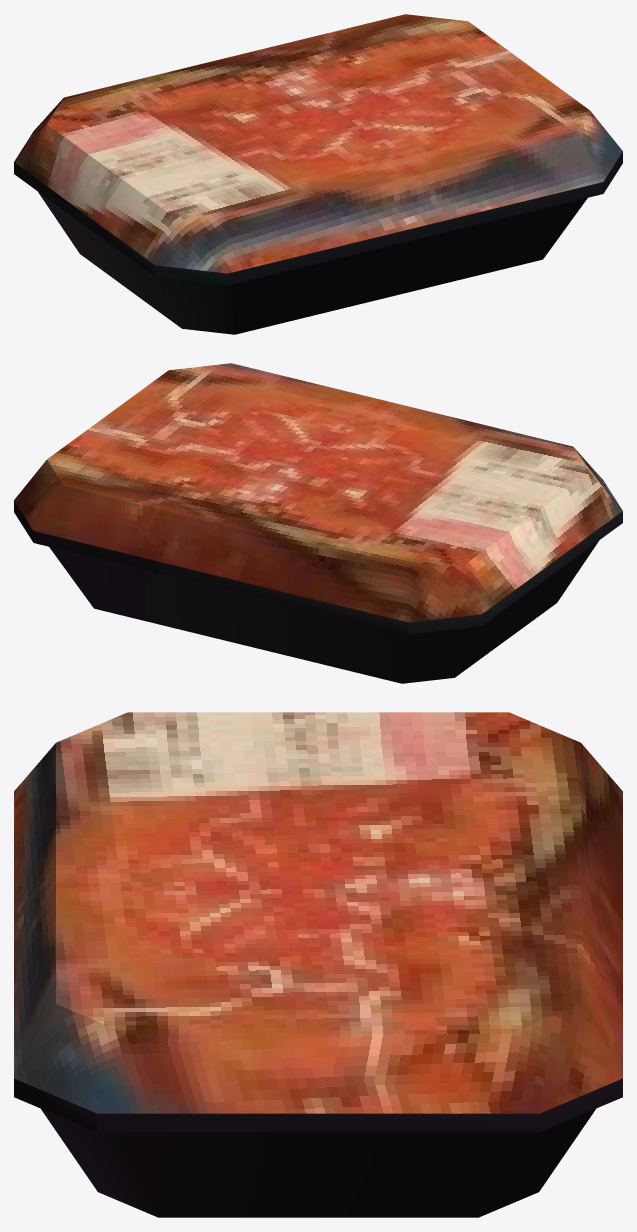
File: food_portion.glb
The picture shows the model from 3 angles, top to bottom: view 1: azimuth 30°, elevation 25°; view 2: azimuth 150°, elevation 25°; view 3: azimuth 270°, elevation 25°; orthographic projection. The views are drawn at different scales.
Visible parts, largest first — view 1: Supplied packaged meal; view 2: Supplied packaged meal; view 3: Supplied packaged meal.
Part boxes in pixels (<box>): Supplied packaged meal: <box>14,14,622,334</box>; Supplied packaged meal: <box>14,363,622,683</box>; Supplied packaged meal: <box>14,712,622,1217</box>.
Bounding box in the file's own units: 0.28 × 0.0734 × 0.2016.
Materials: 1 (1 with a texture image).
